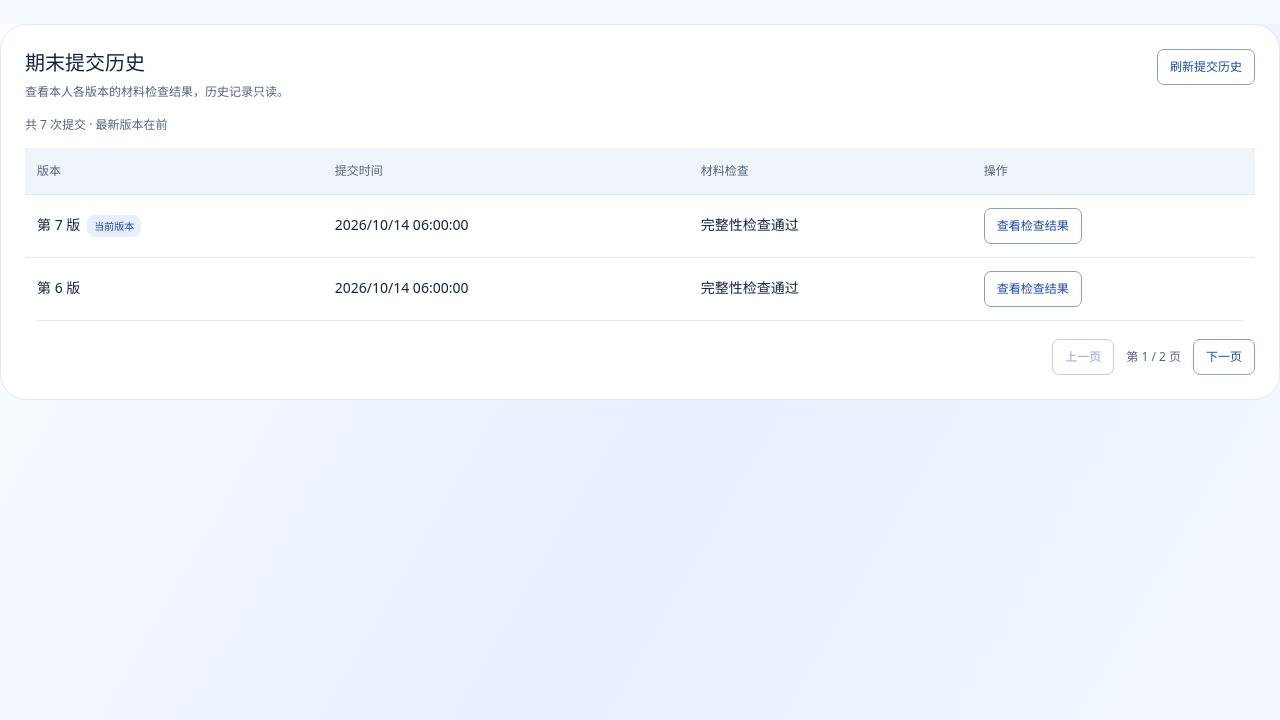
详情失败可刷新重试，不改变列表和当前标记
The width and height of the screenshot is (1280, 720).
Step 1. Click the button with aria-label "查看第 6 版材料检查" → click(1033, 289), box x1=984 y1=271 x2=1082 y2=307
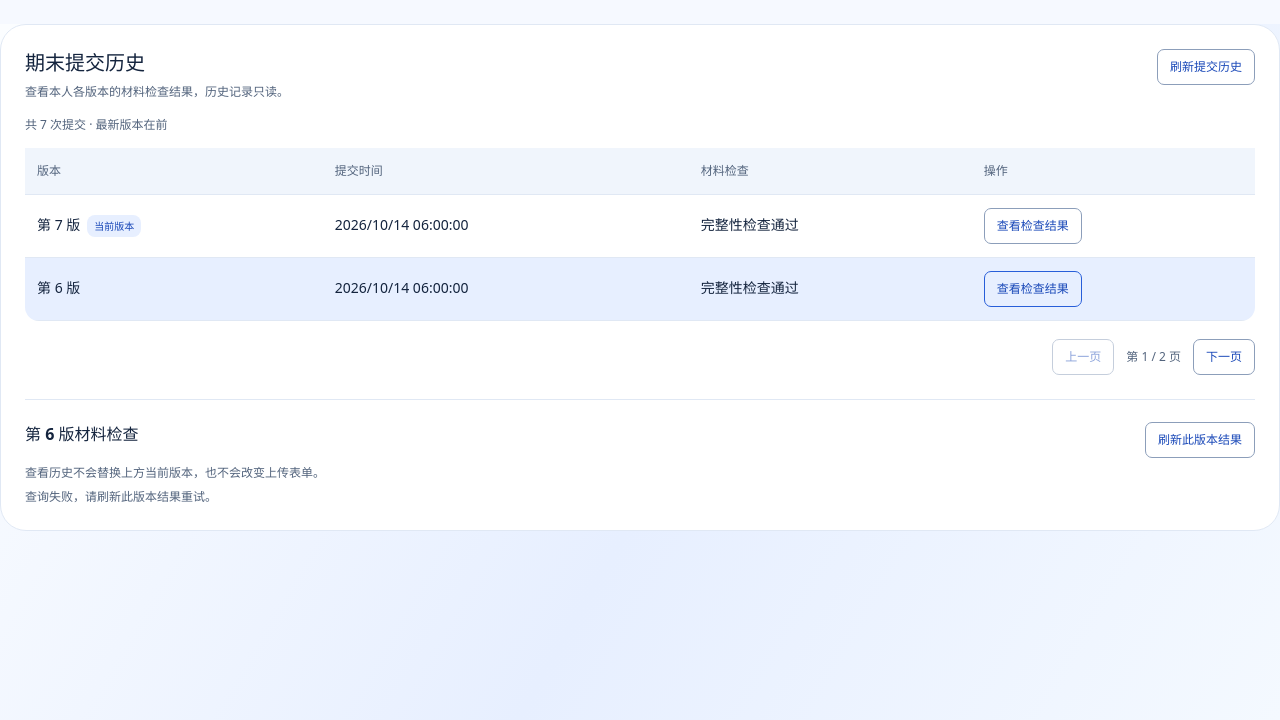
Expected: the message "查询失败，请刷新此版本结果重试。" is shown, x1=25 y1=488 x2=217 y2=505
Step 2. Click the button "刷新此版本结果" → click(1200, 440), box x1=1145 y1=422 x2=1255 y2=458
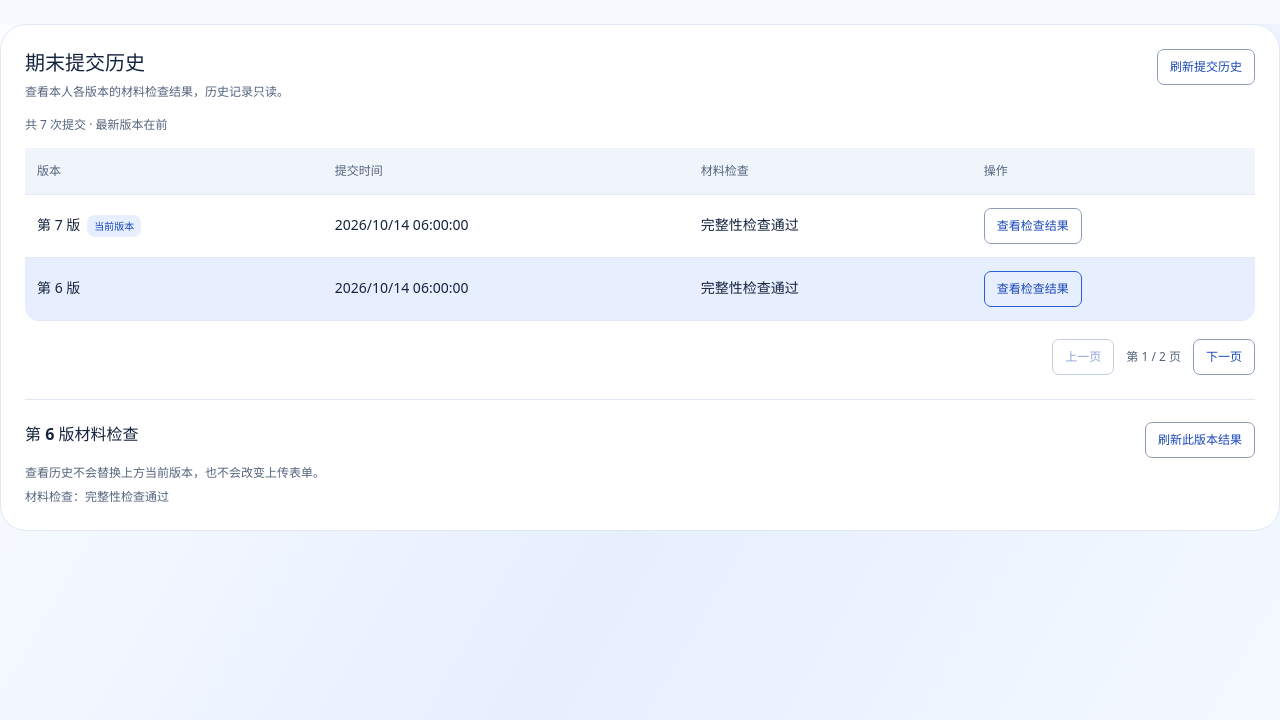
Expected: the element with class "history-detail" shows "完整性检查通过", x1=25 y1=488 x2=169 y2=505
